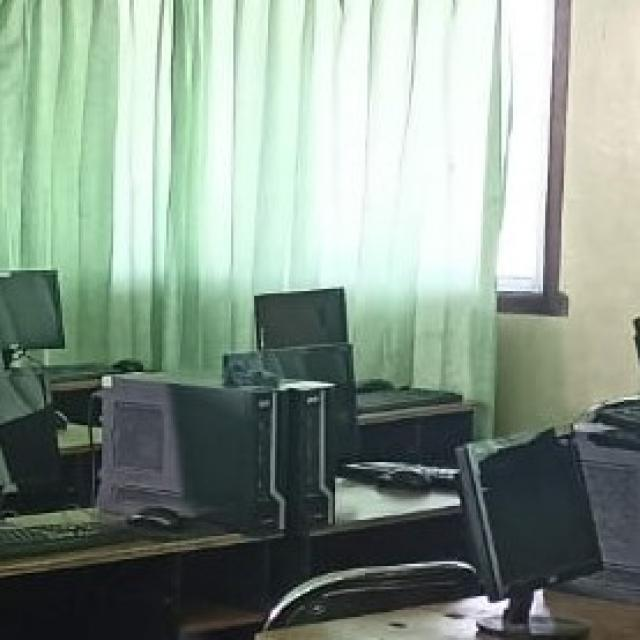offscreen: (458, 429, 602, 626)
